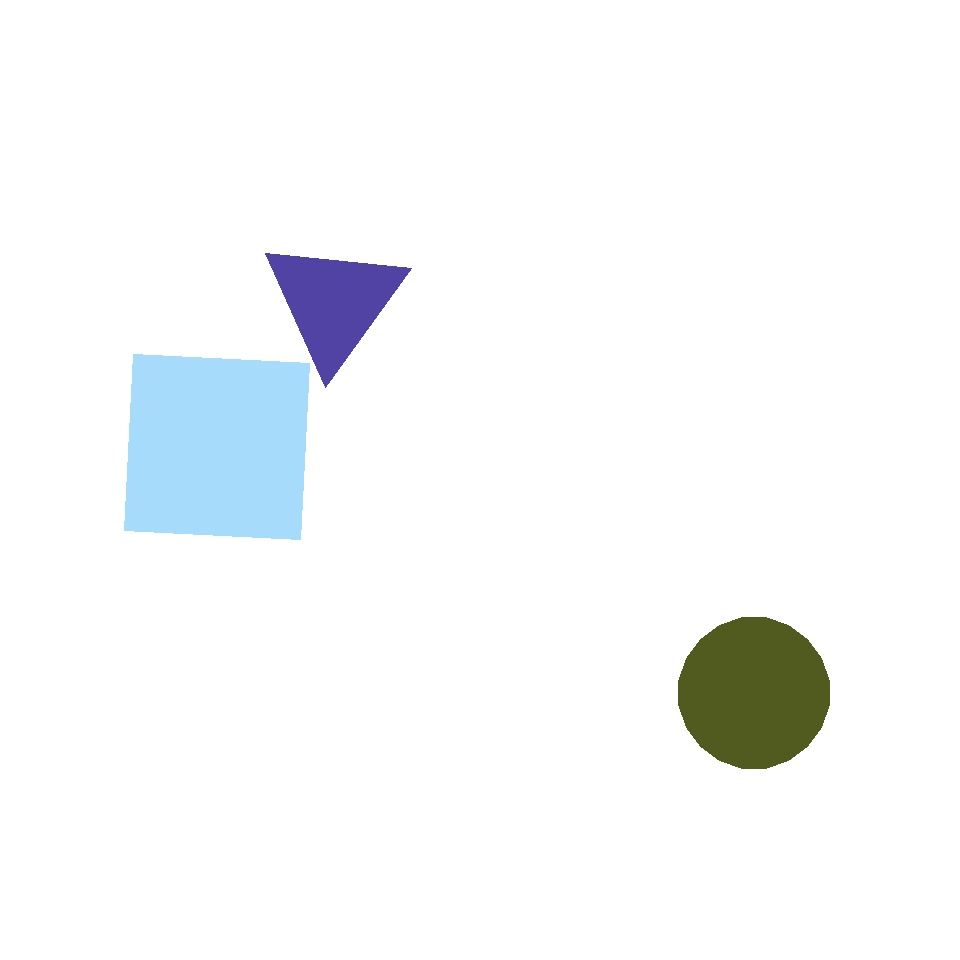circle: (261, 236, 407, 370)
square: (608, 72, 869, 332), (376, 560, 636, 820), (112, 58, 358, 302), (125, 354, 310, 540), (512, 401, 676, 566)
triangle: (246, 178, 516, 450), (22, 629, 218, 826), (678, 618, 830, 768)
